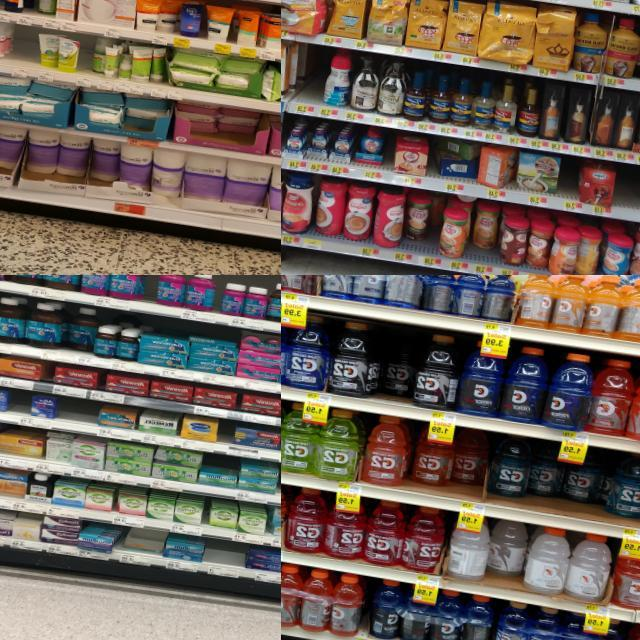empty_space: (297, 48, 327, 116), (611, 162, 640, 222), (8, 26, 40, 78), (203, 539, 244, 578), (59, 397, 100, 435), (555, 155, 581, 212), (74, 35, 95, 86), (11, 390, 32, 426)
